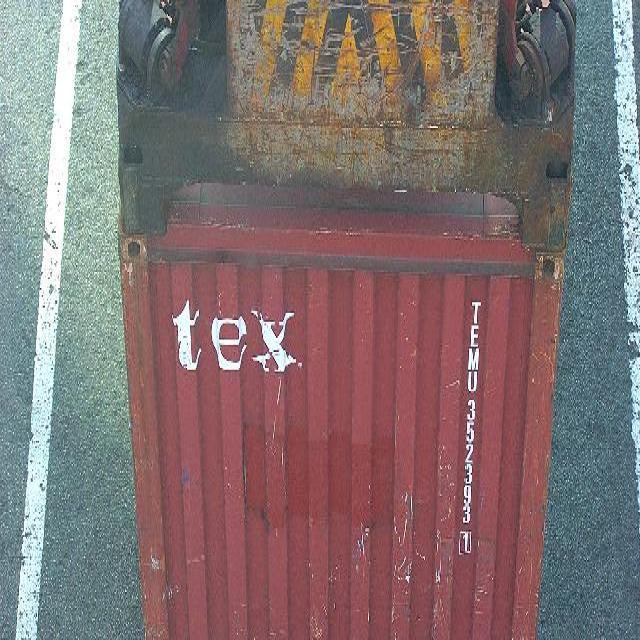container_number: (461, 281, 484, 554)
